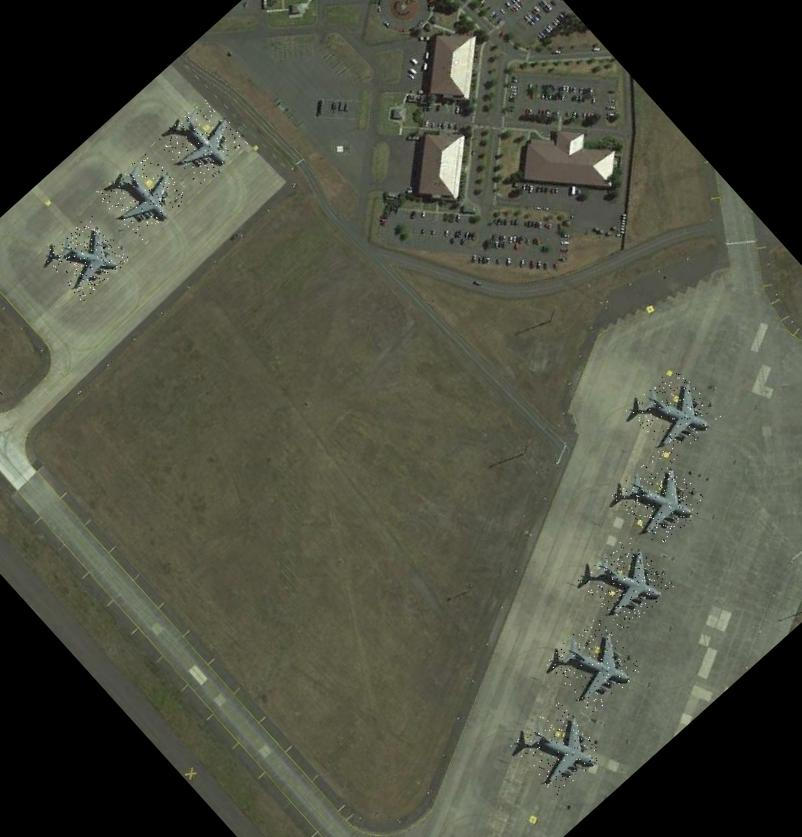A3: (543, 612, 646, 715), (610, 448, 710, 547), (625, 364, 723, 462), (577, 534, 675, 632), (509, 699, 607, 797), (94, 146, 192, 243), (156, 95, 249, 188), (42, 212, 131, 301)
